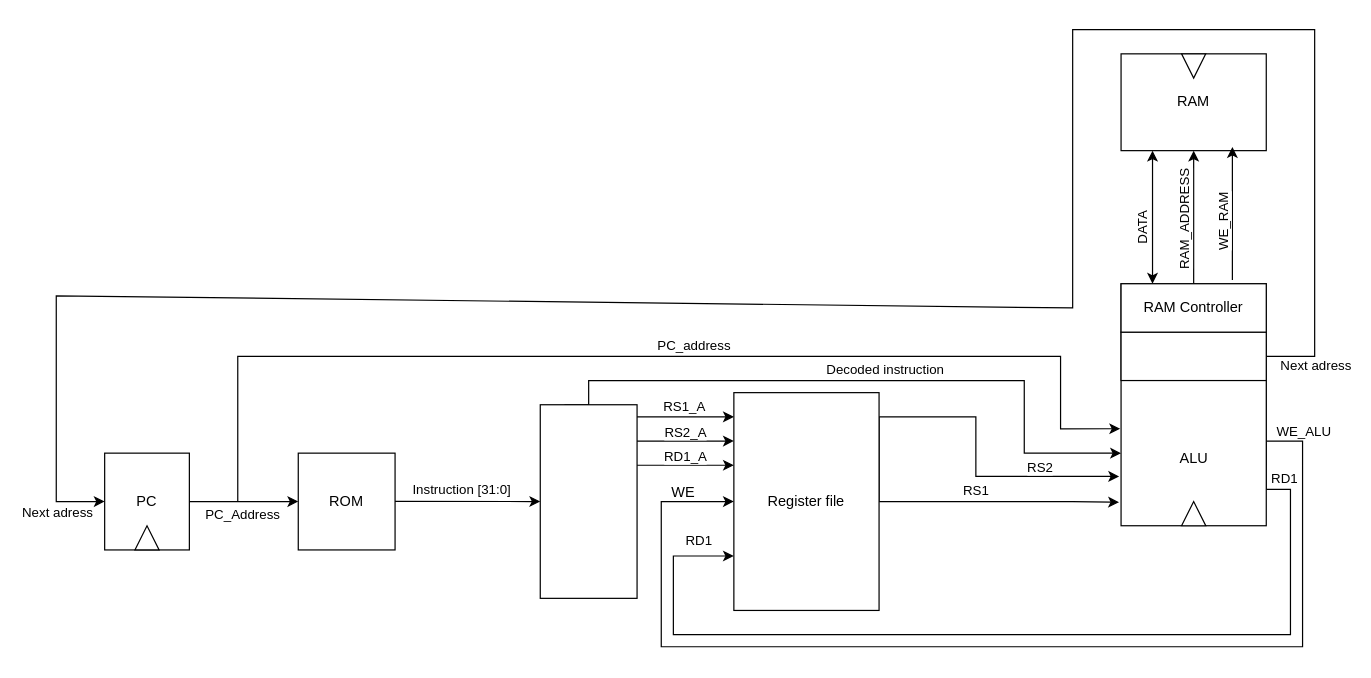
This 1371x678 diagram has some shape labels left out. Each missing label, with the centre of its shape:
"ID" goes at [588,501].
"NEXT ADDRESS CALCULATE" goes at [1193,356].
